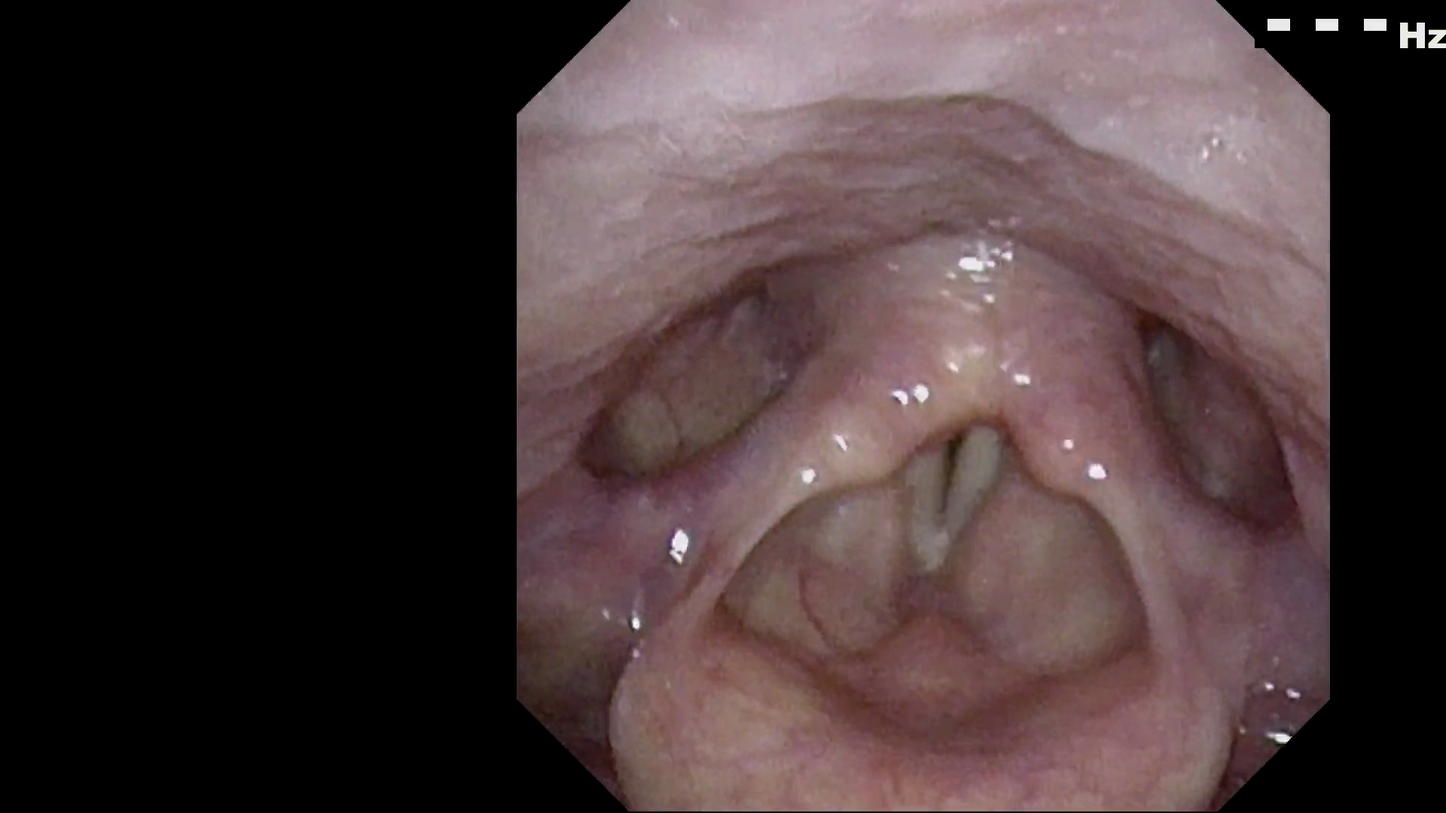epiglottis: (581, 514, 1227, 753)
trachea: (858, 358, 1037, 583)
